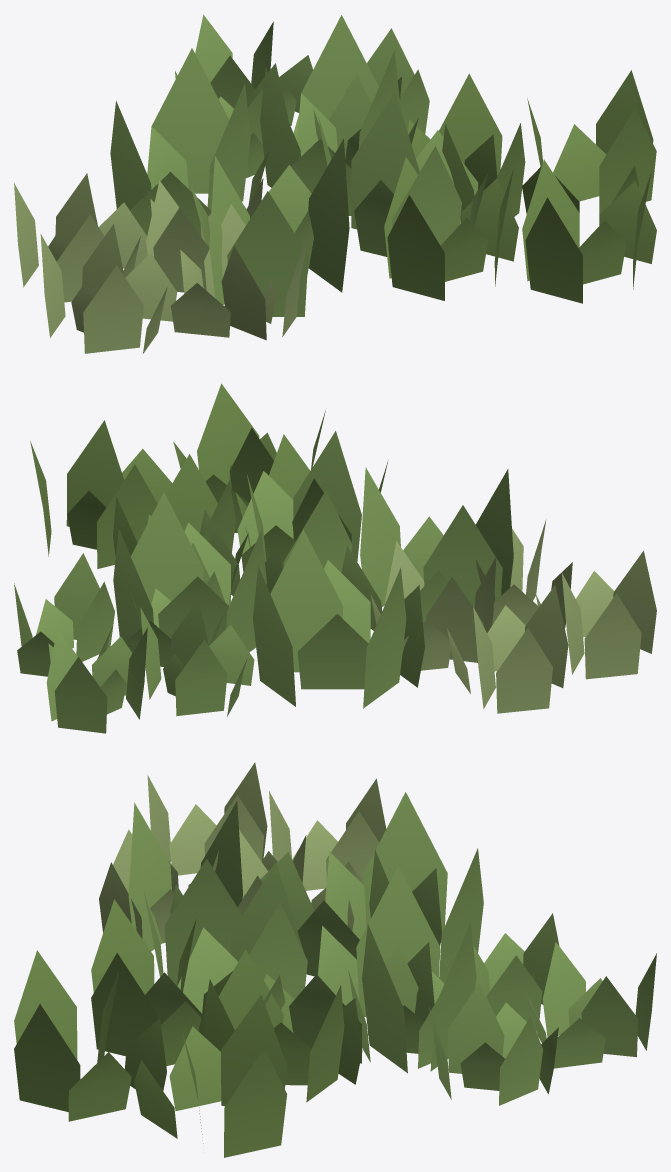
File: veg_meadow_tufts.glb
3 views of the same model, one above another, from view 1: azimuth 30°, elevation 25°; view 2: azimuth 150°, elevation 25°; view 3: azimuth 270°, elevation 25° (orthographic). The views are drawn at different scales.
Parts seen in each view (by area): view 1: clump_0, clump_2, clump_1, clump_3; view 2: clump_0, clump_1, clump_3, clump_2; view 3: clump_0, clump_2, clump_3, clump_1.
Boxes of the visible parts, bbox=[...] form: clump_0: bbox=[110, 15, 488, 316]; clump_2: bbox=[384, 70, 656, 303]; clump_1: bbox=[14, 173, 307, 353]; clump_3: bbox=[175, 14, 429, 178]; clump_0: bbox=[113, 431, 513, 708]; clump_1: bbox=[370, 497, 656, 713]; clump_3: bbox=[14, 542, 254, 733]; clump_2: bbox=[30, 383, 388, 605]; clump_0: bbox=[128, 792, 483, 1073]; clump_2: bbox=[14, 899, 362, 1157]; clump_3: bbox=[348, 913, 656, 1105]; clump_1: bbox=[99, 762, 386, 943].
Size of the model in its own units: 1.1 by 0.2351 by 0.97.
